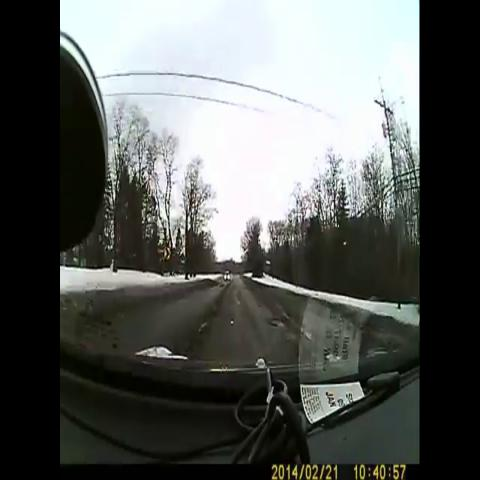pothole: (262, 306, 293, 344), (194, 321, 217, 336)
